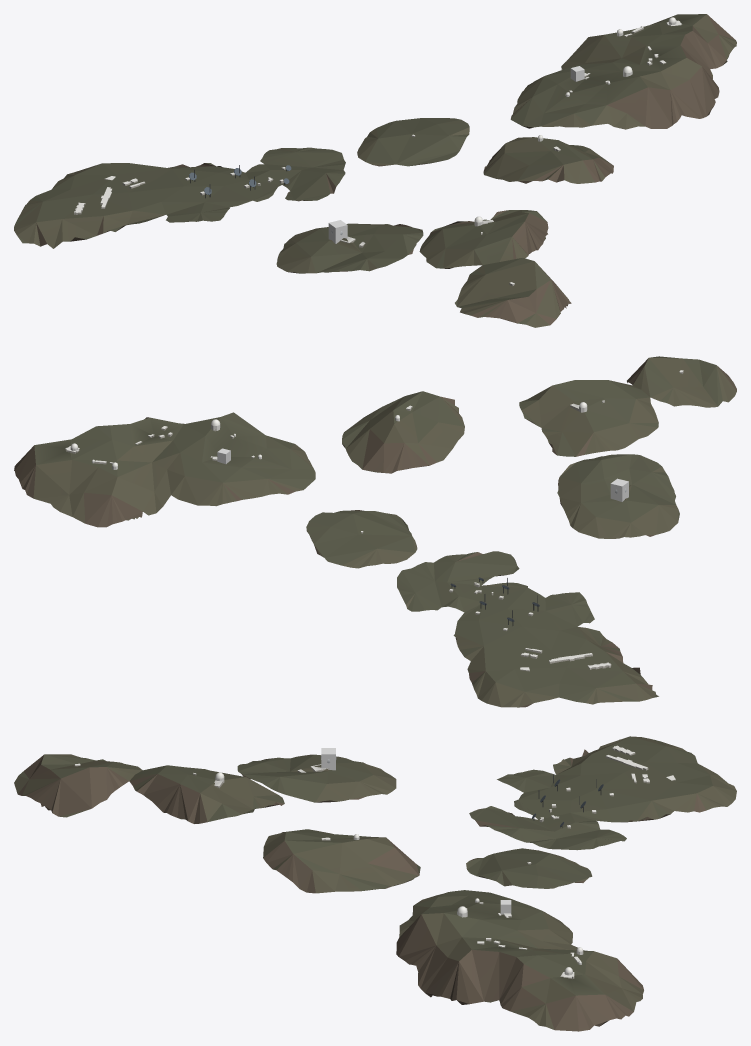
Rendered from muchachos.glb.
3 renders of one model, top to bottom at view 1: azimuth 30°, elevation 25°; view 2: azimuth 150°, elevation 25°; view 3: azimuth 270°, elevation 25°, orthographic. The views are drawn at different scales.
Visible parts, largest first — view 1: sitio; view 2: sitio; view 3: sitio.
Boxes of the visible parts, x1,y1,x2,y2 form: sitio: (14,14,736,327); sitio: (14,356,736,707); sitio: (14,736,736,1031).
Size of the model in its own units: 2131 by 315 by 1849.
